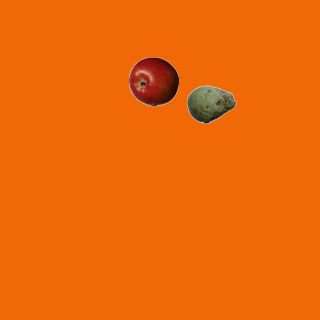Apple Braeburn: (128, 56, 178, 106)
Pear Stone: (186, 79, 236, 129)
